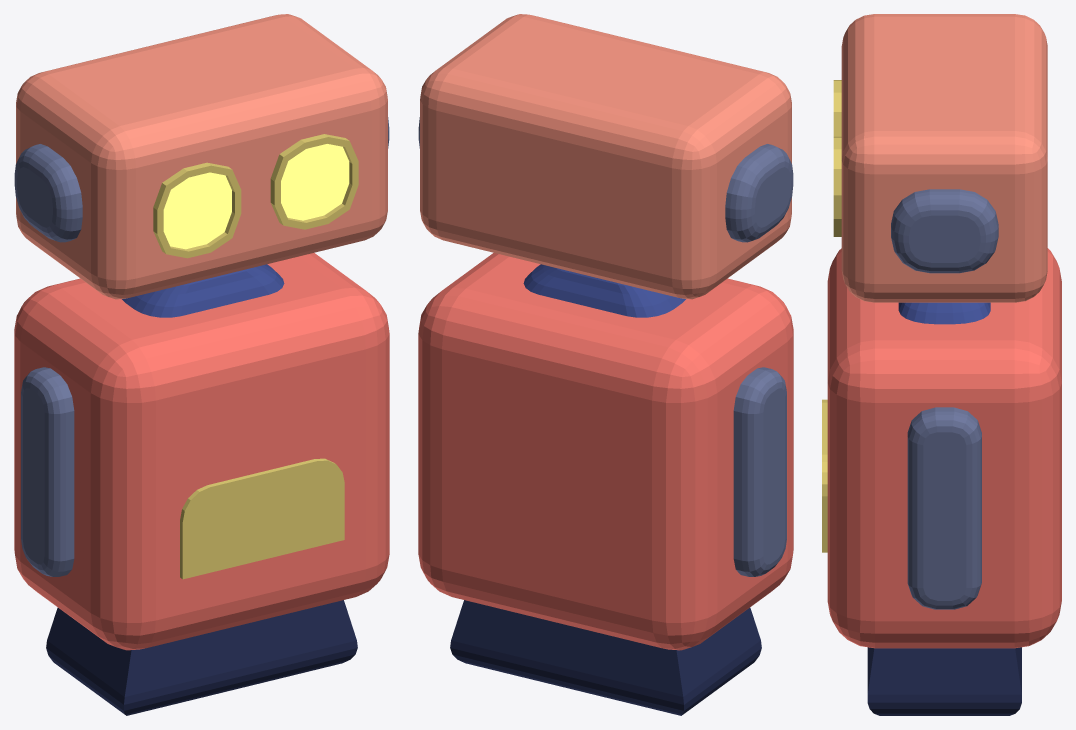
The model's file is Robot.fbx.
3 renders of one model, left to right at view 1: azimuth 30°, elevation 25°; view 2: azimuth 150°, elevation 25°; view 3: azimuth 270°, elevation 25°, orthographic.
Parts seen in each view (by area): view 1: Body, Head, Plane, Pocket, Arm, EyeLight, Eye, Ear, Neck; view 2: Body, Head, Plane, Arm, Ear, Neck; view 3: Body, Head, Arm, Plane, Ear, Neck, Eye, Pocket.
Boxes of the visible parts, bbox=[...] form: Body: bbox=[14, 253, 389, 650]; Head: bbox=[16, 14, 387, 299]; Plane: bbox=[46, 600, 357, 715]; Pocket: bbox=[180, 458, 344, 579]; Arm: bbox=[21, 367, 74, 576]; EyeLight: bbox=[163, 144, 349, 249]; Eye: bbox=[153, 134, 358, 258]; Ear: bbox=[14, 117, 389, 242]; Neck: bbox=[122, 264, 284, 317]; Body: bbox=[418, 253, 793, 650]; Head: bbox=[420, 14, 791, 299]; Plane: bbox=[450, 600, 761, 715]; Arm: bbox=[733, 367, 786, 576]; Ear: bbox=[418, 117, 793, 242]; Neck: bbox=[523, 264, 685, 317]; Body: bbox=[827, 248, 1061, 648]; Head: bbox=[841, 14, 1047, 302]; Arm: bbox=[907, 407, 981, 609]; Plane: bbox=[867, 647, 1021, 715]; Ear: bbox=[891, 189, 998, 273]; Neck: bbox=[898, 302, 990, 324]; Eye: bbox=[833, 80, 841, 236]; Pocket: bbox=[822, 399, 827, 552].
Size of the model in its own units: 230 by 391 by 143.
